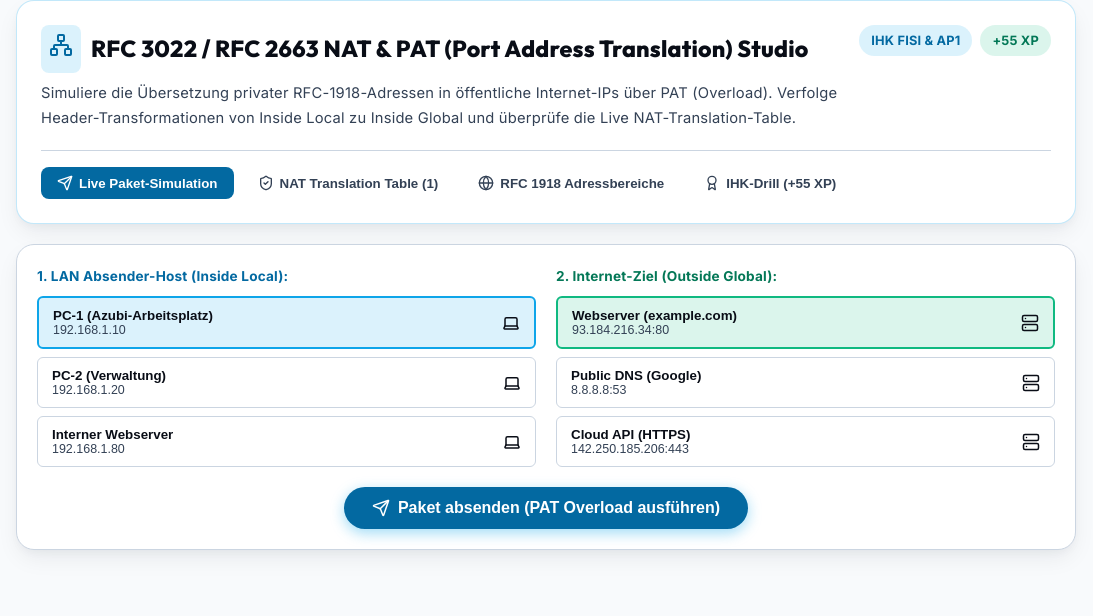
NatPatSimulatorLab › wechselt zum RFC 1918 Tab und prüft IP
Click the button "RFC 1918 Adressbereiche". click: (571, 183)
box: [462,167,680,199]
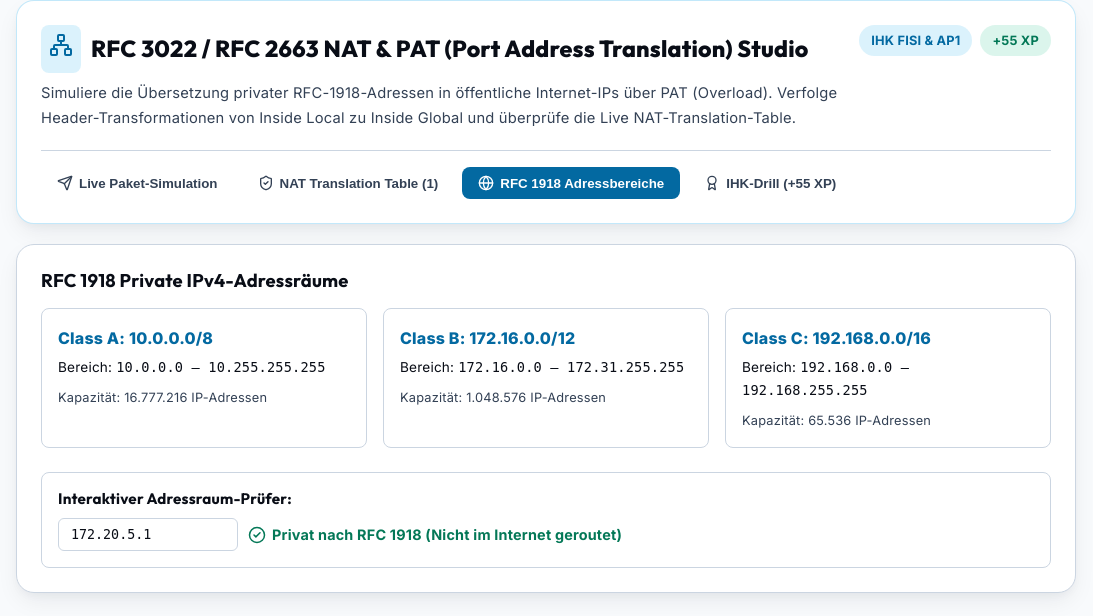
Result: the heading "RFC 1918 Private IPv4-Adressräume" is shown at [41,269,349,292]
Result: the text "Class A: 10.0.0.0/8" is shown at [58,328,213,348]
